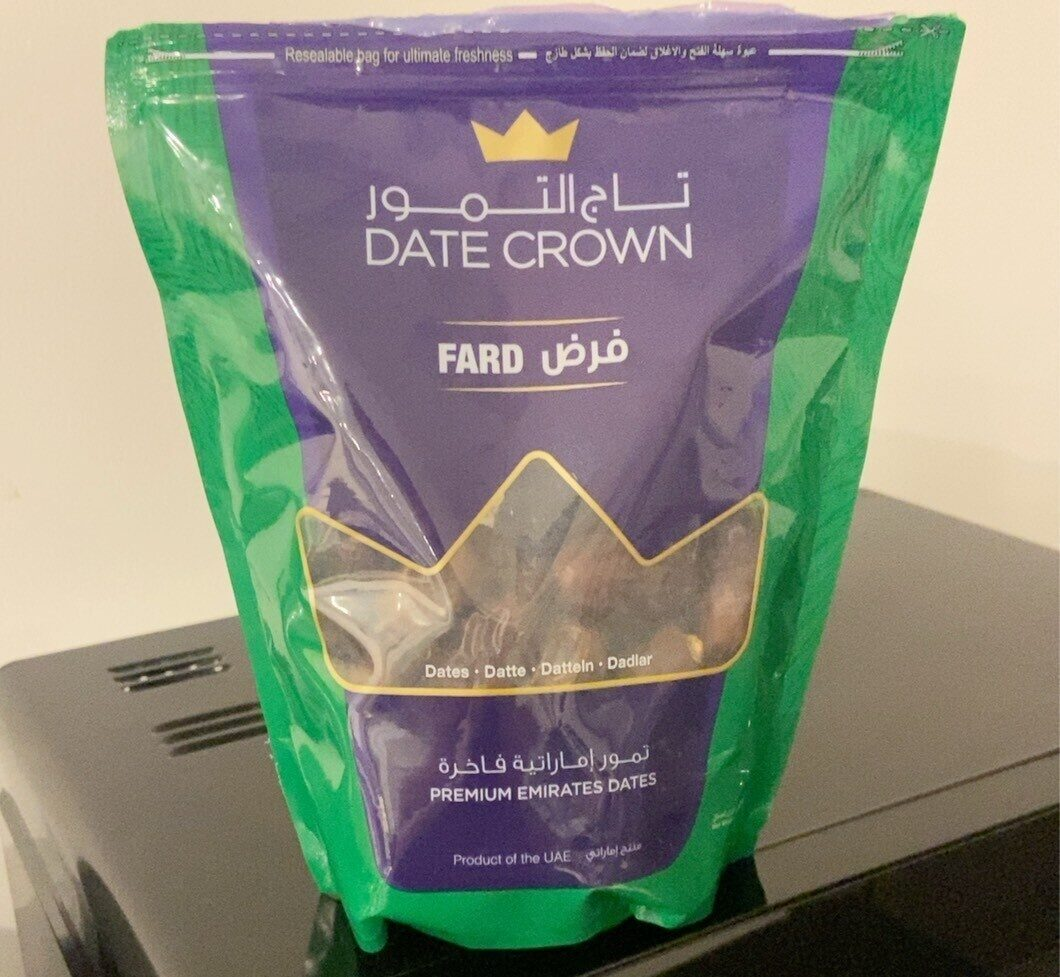UAE by: (53, 49, 1007, 928)
